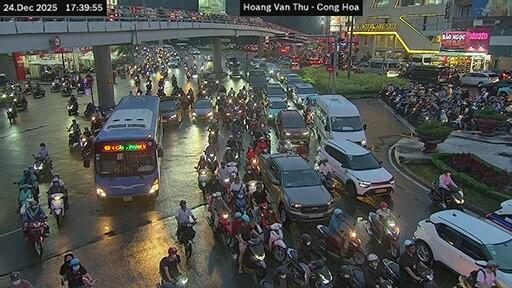motorbike: (316, 225, 364, 264), (365, 211, 399, 256), (256, 223, 285, 261), (426, 181, 463, 210), (242, 237, 265, 278), (454, 261, 486, 287), (207, 211, 230, 243), (307, 257, 332, 286), (333, 265, 365, 286), (288, 247, 304, 286), (381, 257, 402, 286), (179, 221, 195, 257), (28, 220, 44, 256), (12, 181, 38, 202), (50, 193, 64, 225), (32, 156, 50, 179), (18, 193, 35, 216), (156, 274, 186, 287), (233, 190, 246, 212), (319, 171, 332, 193), (420, 269, 434, 287), (198, 169, 208, 193), (205, 152, 217, 171), (80, 140, 92, 158), (67, 131, 80, 147), (246, 156, 258, 171), (13, 95, 26, 108), (246, 180, 259, 193), (220, 174, 230, 190), (6, 107, 16, 122), (208, 129, 217, 144), (32, 86, 44, 97), (279, 140, 291, 151), (50, 77, 60, 90), (76, 81, 86, 93), (22, 81, 31, 94), (67, 100, 76, 113), (79, 135, 88, 147), (227, 162, 236, 174), (378, 279, 391, 287), (60, 85, 70, 95), (185, 71, 191, 81), (134, 76, 140, 85), (144, 81, 150, 90), (18, 202, 19, 207), (26, 197, 28, 198)
